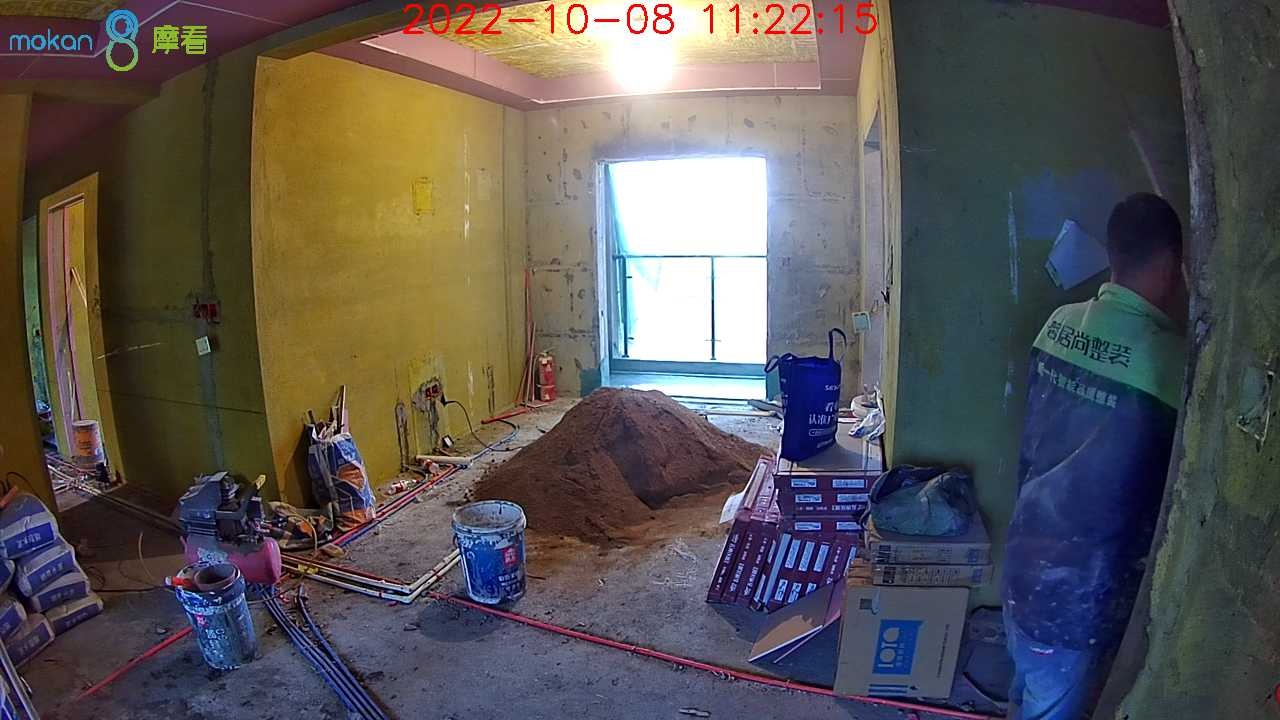people: (1001, 192, 1192, 720)
window: (603, 158, 768, 363)
